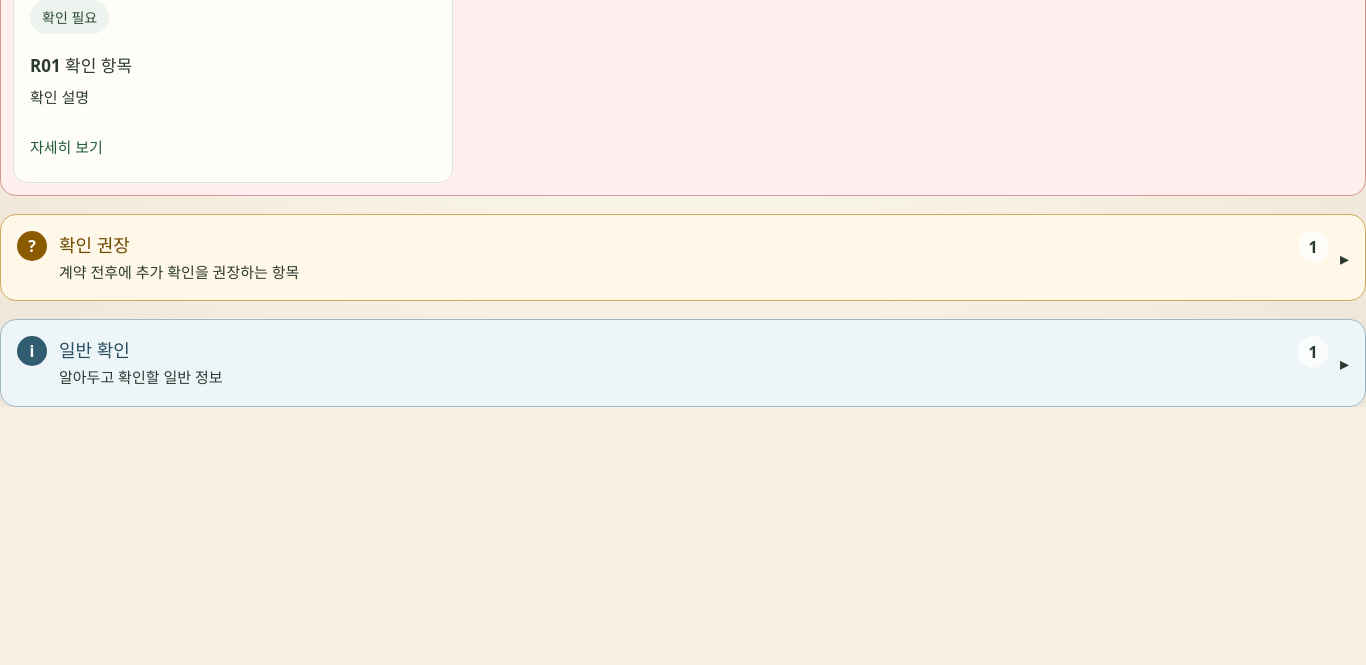
PriorityGroups › maps urgency to the three accessible display groups
The image size is (1366, 665).
Step 1. Click the button "? 확인 권장 계약 전후에 추가 확인을 권장하는 항목 1 ▸" → point(94, 245), box left=1, top=215, right=1365, bottom=300
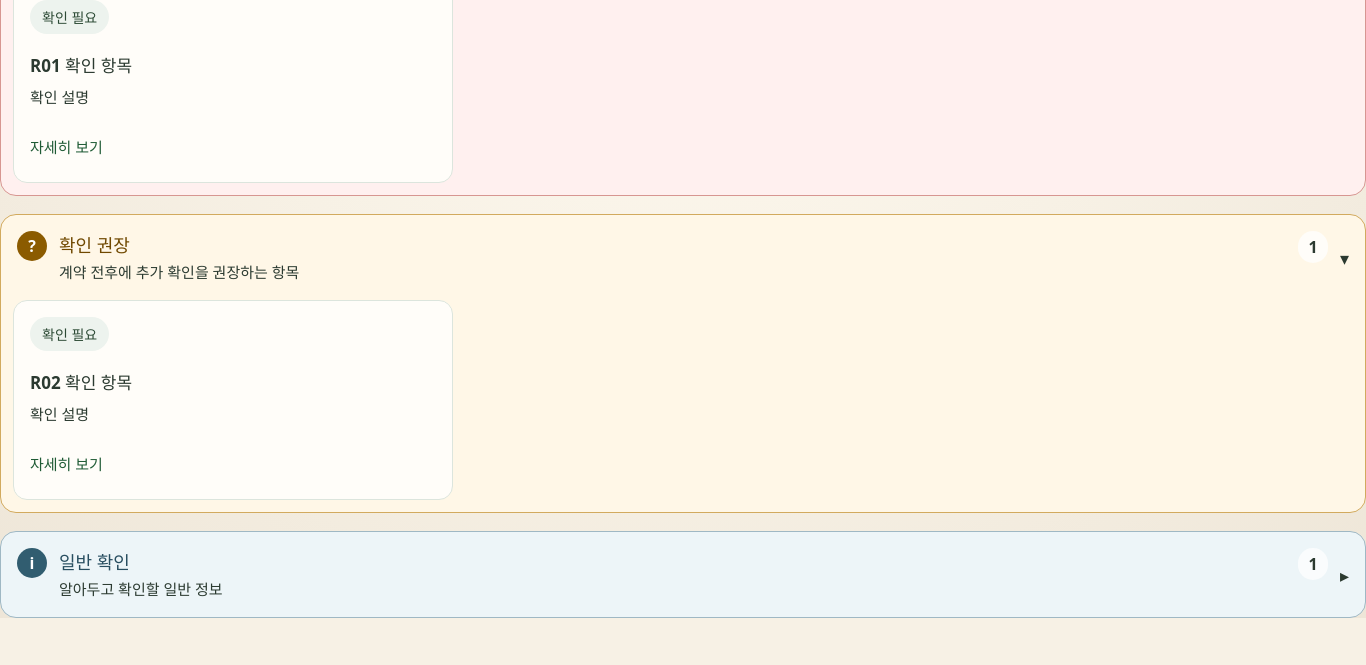
Step 2. Click the button "i 일반 확인 알아두고 확인할 일반 정보 1 ▸" → point(94, 562), box left=1, top=532, right=1365, bottom=617
(page scrolled)
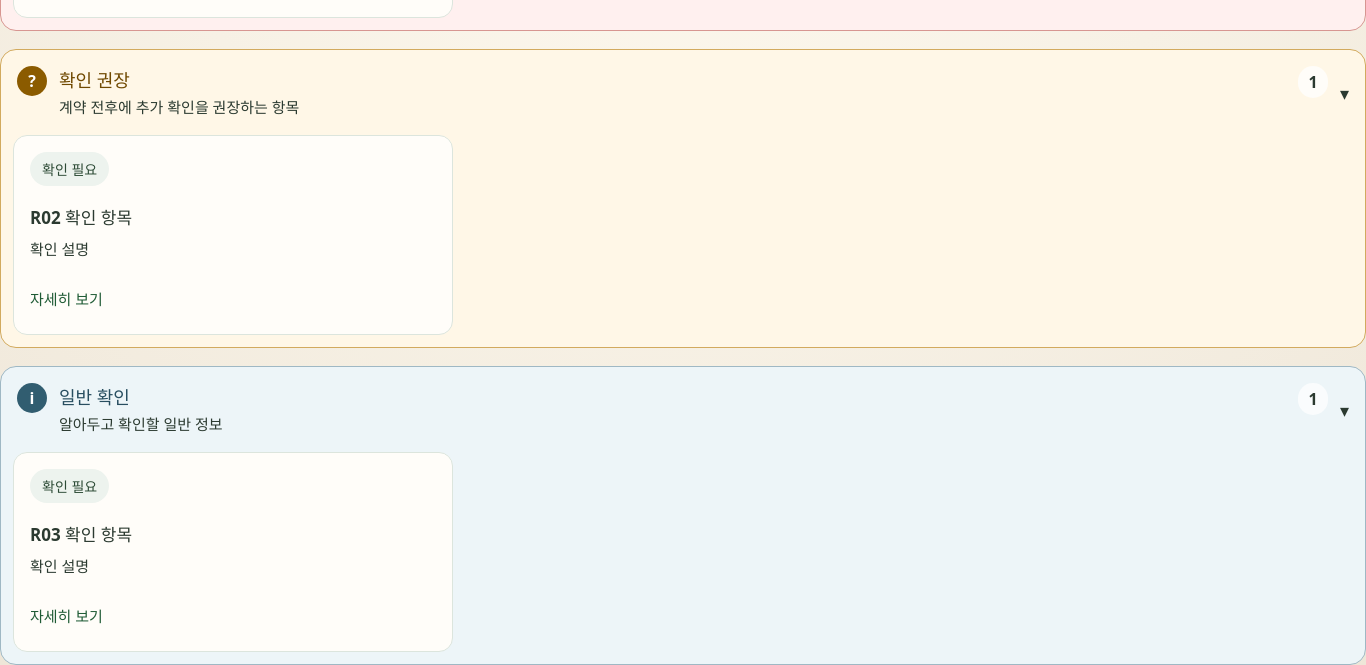
Step 3. Click the button "자세히 보기" below "R03 확인 항목" → point(66, 615), box left=30, top=595, right=103, bottom=635
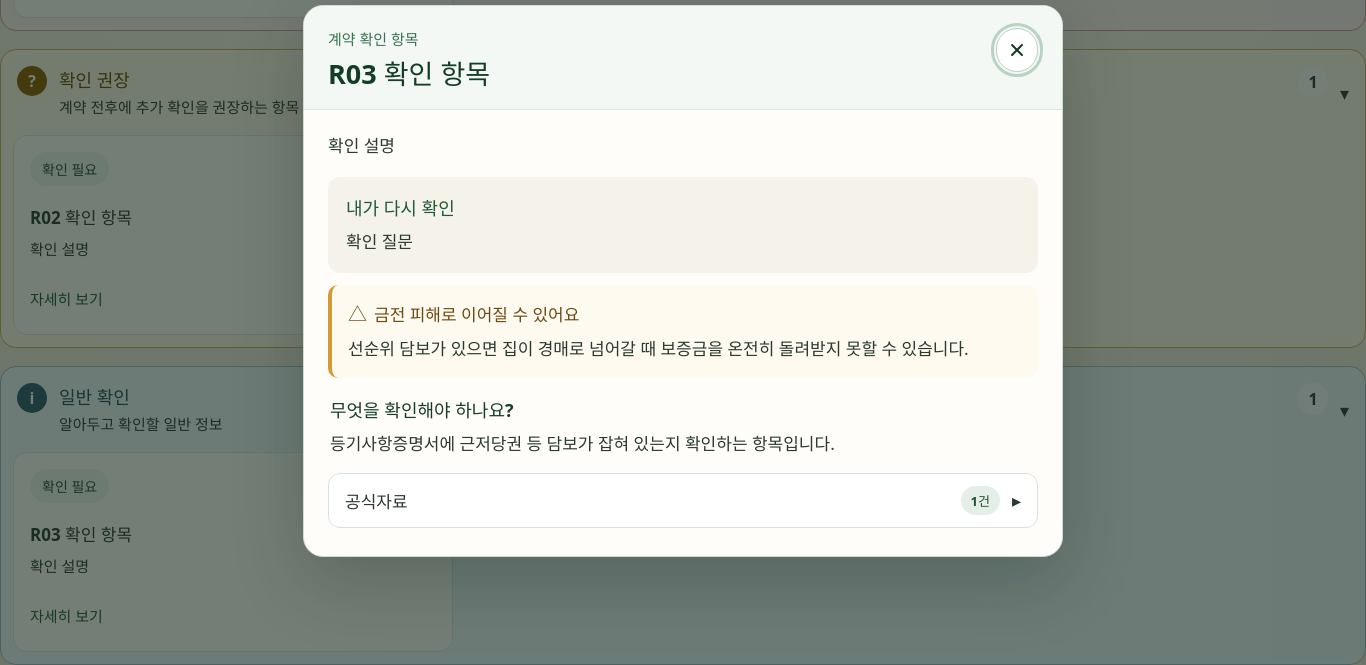
Now the text "금전 피해로 이어질 수 있어요" is shown, box left=374, top=303, right=579, bottom=326
Now the text "무엇을 확인해야 하나요?" is shown, box left=330, top=398, right=514, bottom=422
Now the text "등기사항증명서에 근저당권 등 담보가 잡혀 있는지 확인하는 항목입니다." is shown, box left=330, top=432, right=835, bottom=455
